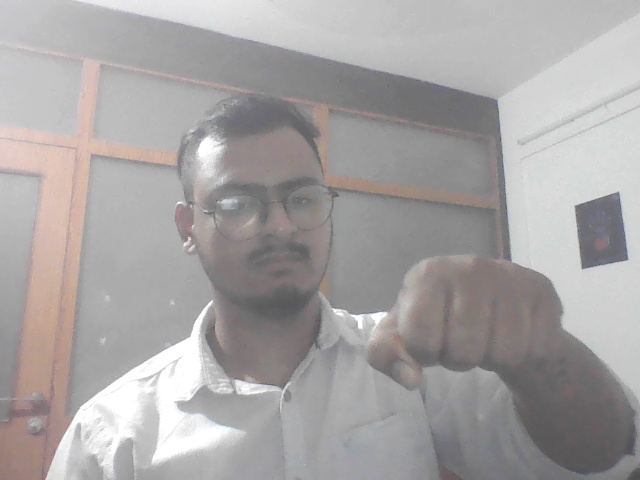YES: (357, 245, 572, 394)
